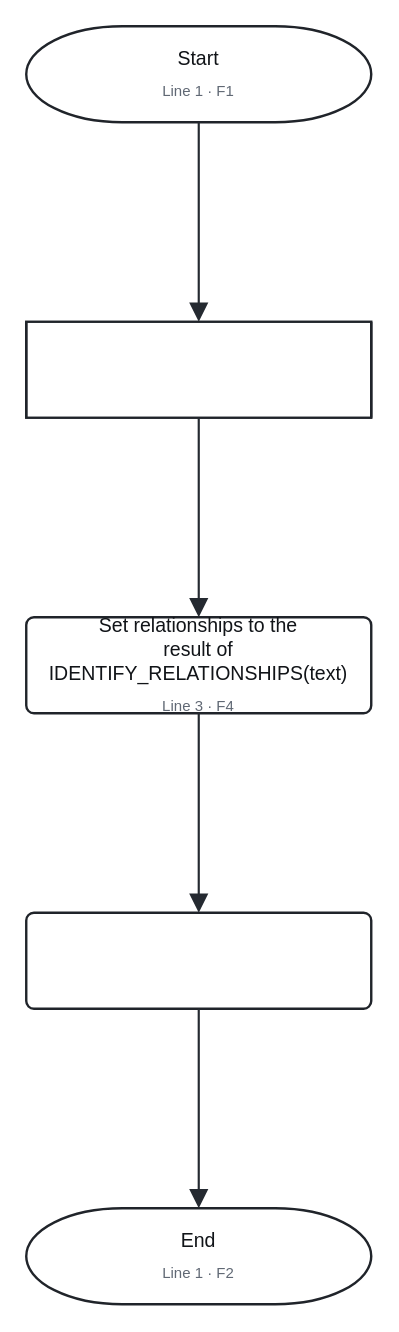
Some shapes in this 399 by 1332 pixel diagram are drawn without their labels. The shapes that lost their labels are listed below. From the top down, each one's centre as x and y in pixels, then its label:
point 198,369: Run function CO_REFERENCE_RESOLUTION with text Line 1 · F3
point 198,960: Return relationships Line 4 · F5
